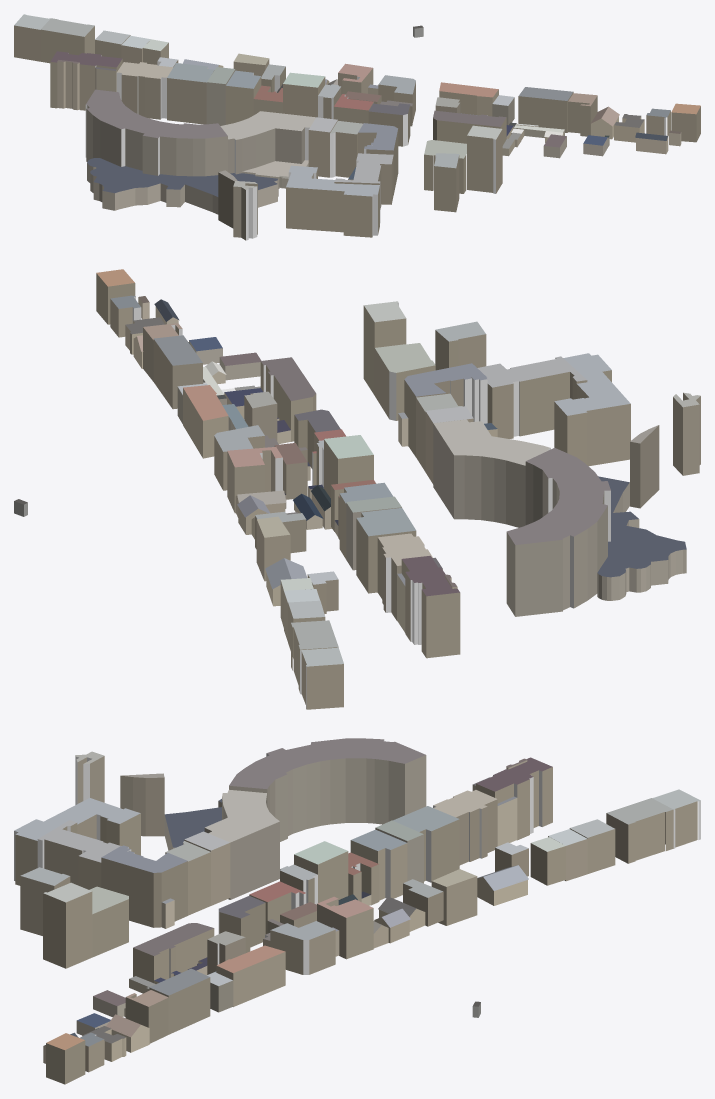
3 renders of one model, top to bottom at view 1: azimuth 30°, elevation 25°; view 2: azimuth 150°, elevation 25°; view 3: azimuth 270°, elevation 25°, orthographic. The views are drawn at different scales.
Parts seen in each view (by area): view 1: tuile; view 2: tuile; view 3: tuile.
Boxes of the visible parts, box(x1,y1,x2,y2) form: tuile: box(14, 14, 700, 240); tuile: box(14, 269, 700, 709); tuile: box(14, 738, 700, 1084).
Size of the model in its own units: 287 by 32.4 by 271.
